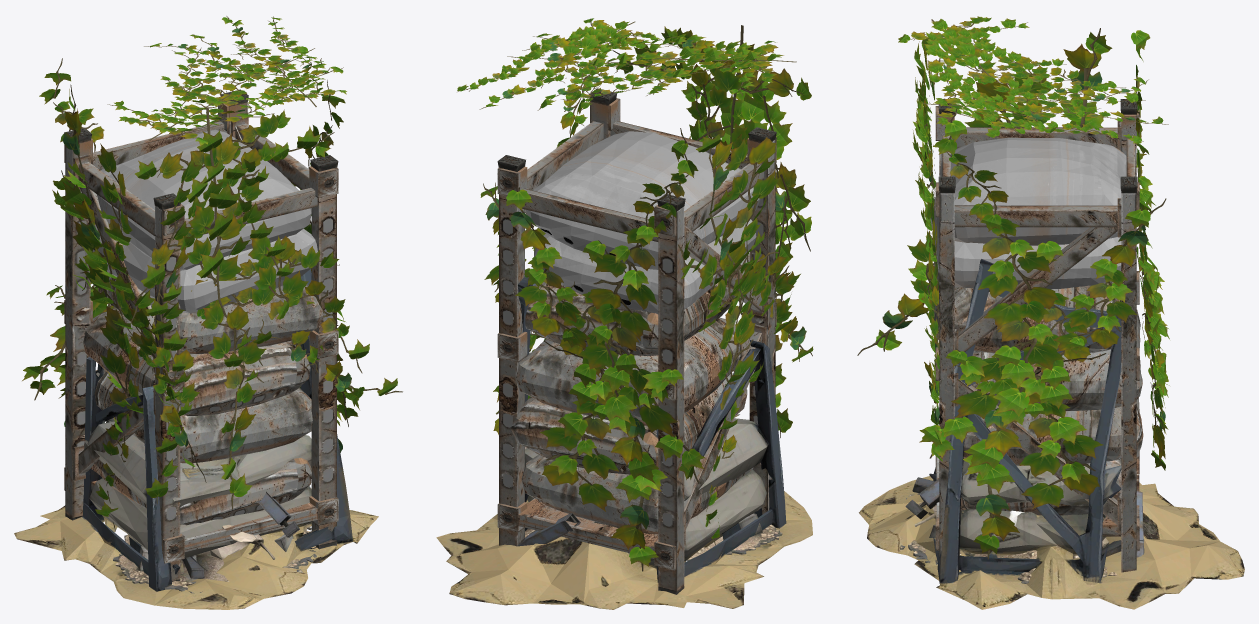
Rendered from P_Tripo01.obj.
3 views of the same model, side by side, from view 1: azimuth 30°, elevation 25°; view 2: azimuth 150°, elevation 25°; view 3: azimuth 270°, elevation 25° (orthographic).
Size of the model in its own units: 1.22 by 1.84 by 1.35.
Materials: 10 (10 with a texture image).
